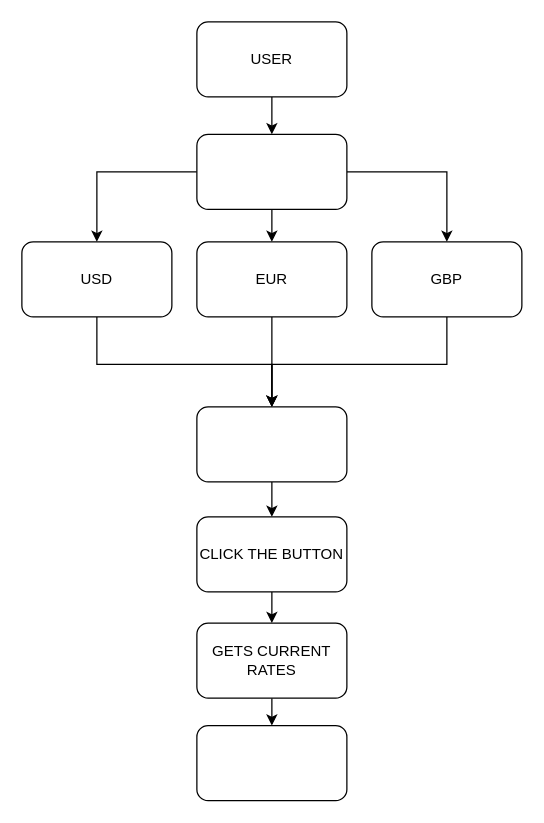
The diagram is 544 pixels wide and 823 high, and some of its shapes have lost their labels. The shapes that lost their labels are listed below. From the top down, each one's box as (x1, y1, x2, y2) in pixels, then its label:
(196, 133, 347, 209): SELECT CURRENCY
(196, 406, 347, 482): ENTER THE NUMBER OF BITCOIN'S
(196, 724, 347, 801): SHOWS RESULTS
